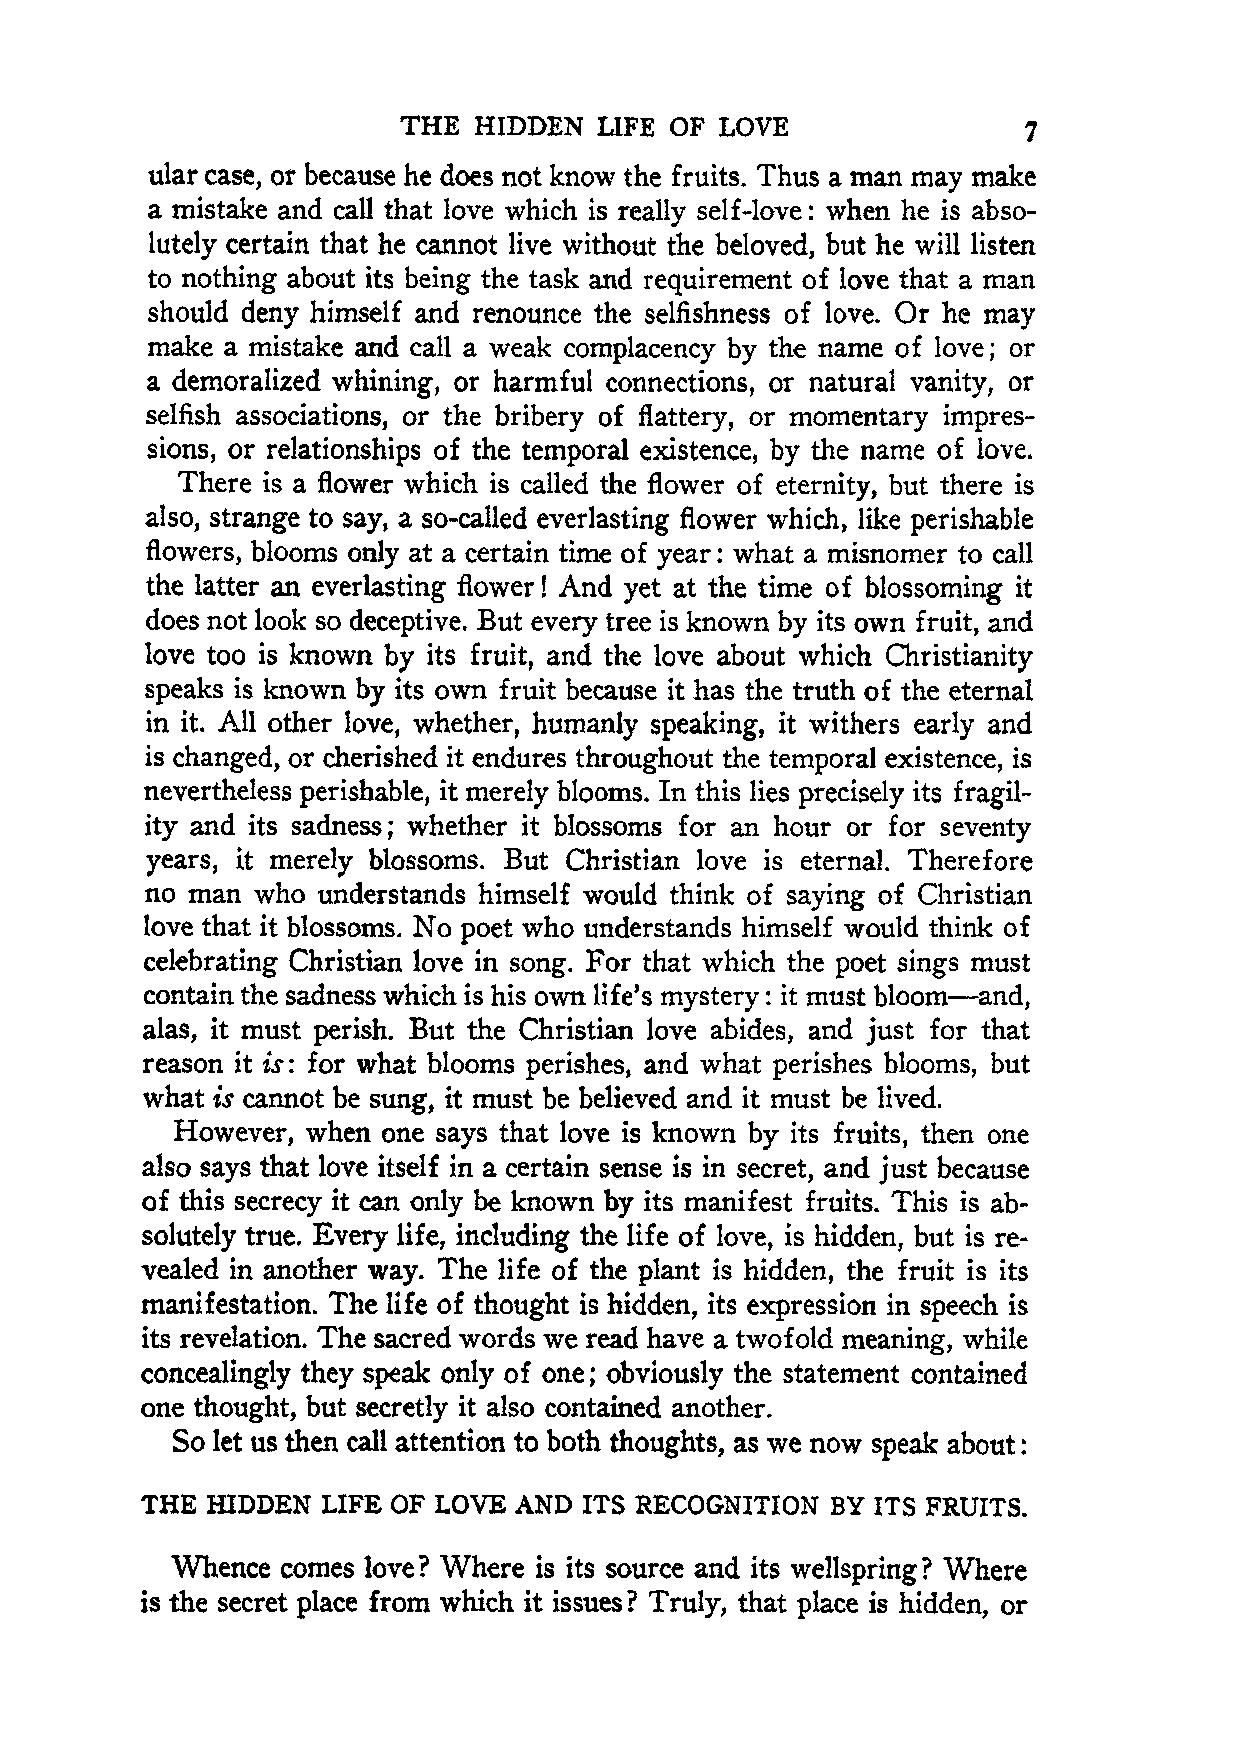content: (138, 161, 1039, 1618)
content_chapter: (395, 111, 790, 138)
content_pagenumber: (1021, 113, 1037, 145)
